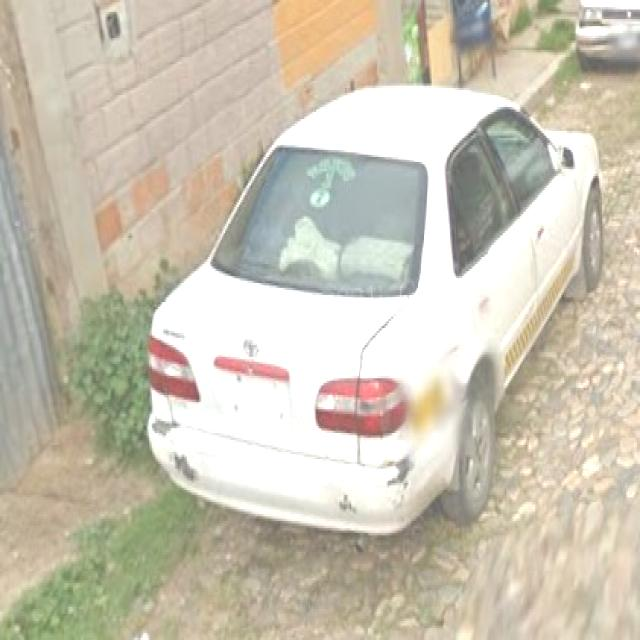car: (155, 86, 601, 543)
